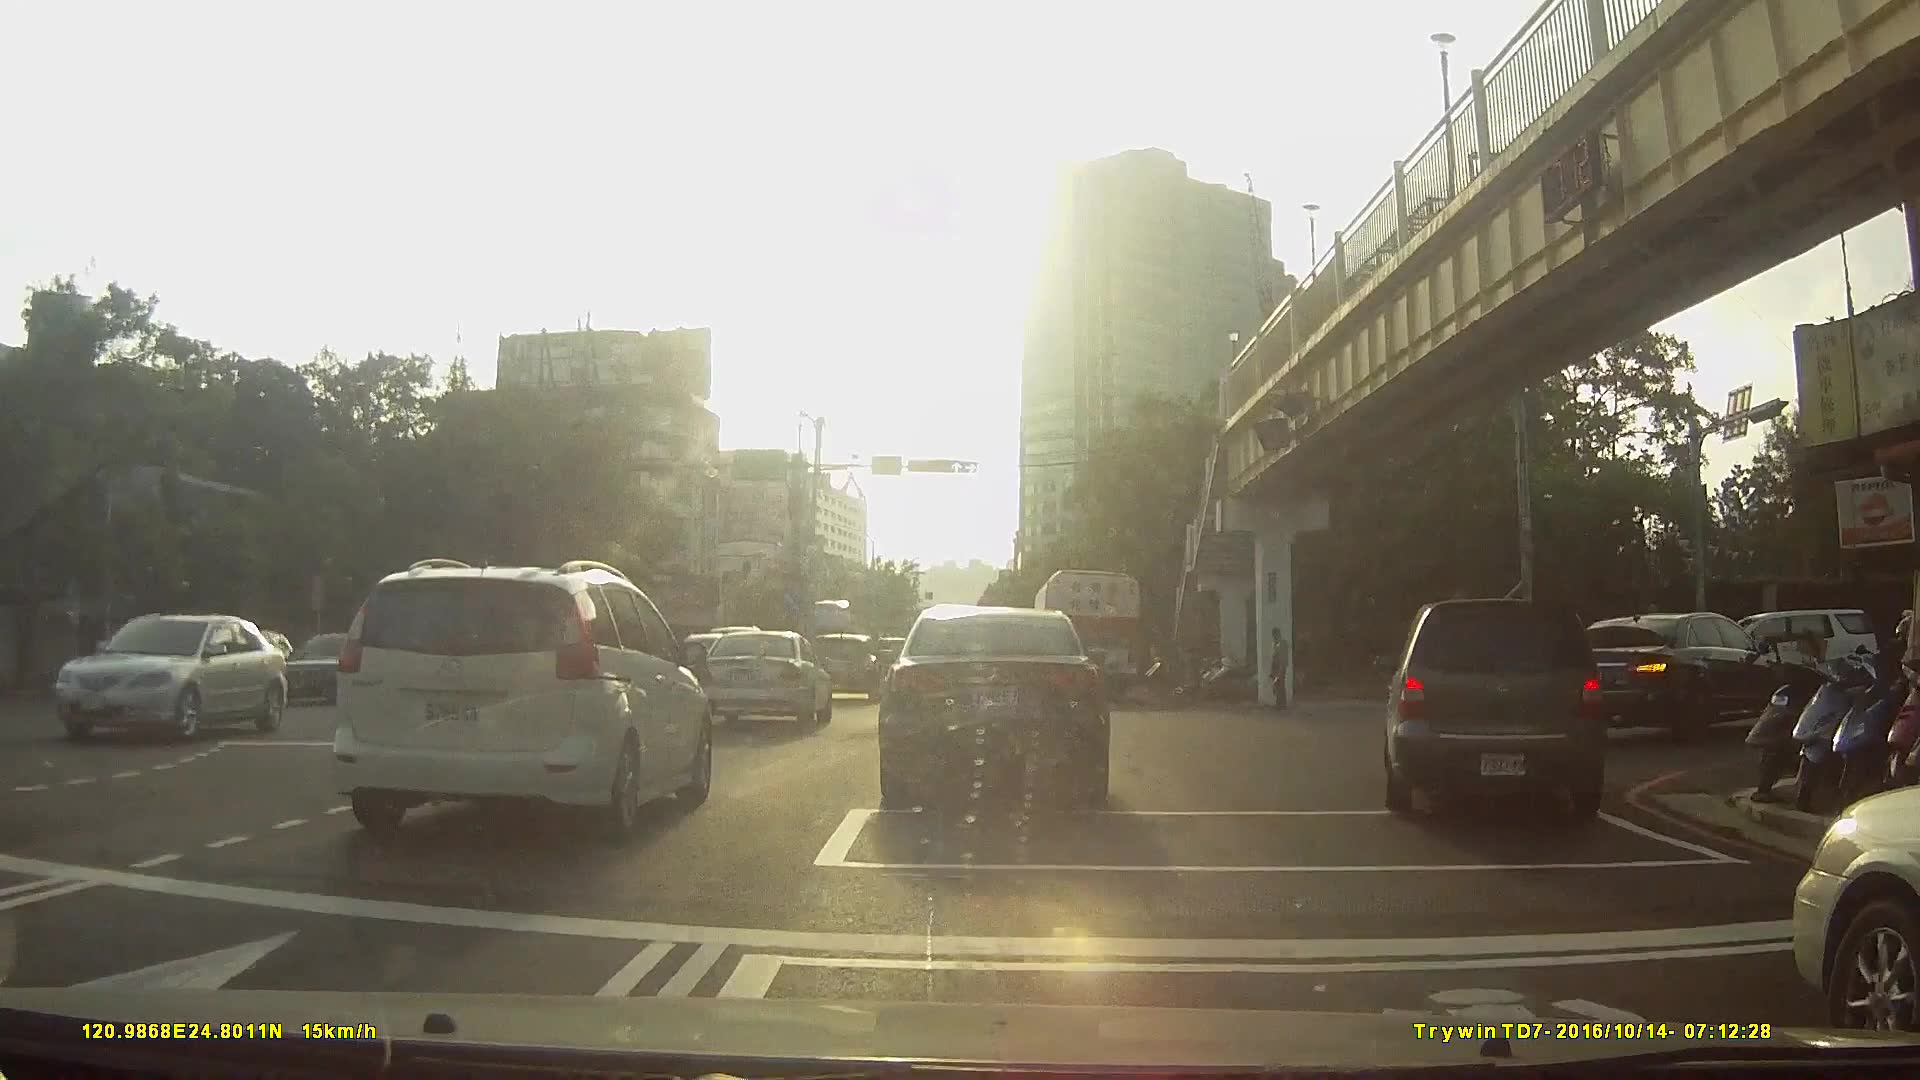pedestrian: (1263, 625, 1299, 715)
vehicle: (331, 554, 715, 841), (1371, 592, 1621, 823), (881, 598, 1110, 813), (1563, 612, 1822, 739), (60, 607, 288, 736), (1031, 565, 1142, 701), (698, 628, 835, 731), (810, 632, 886, 703)
